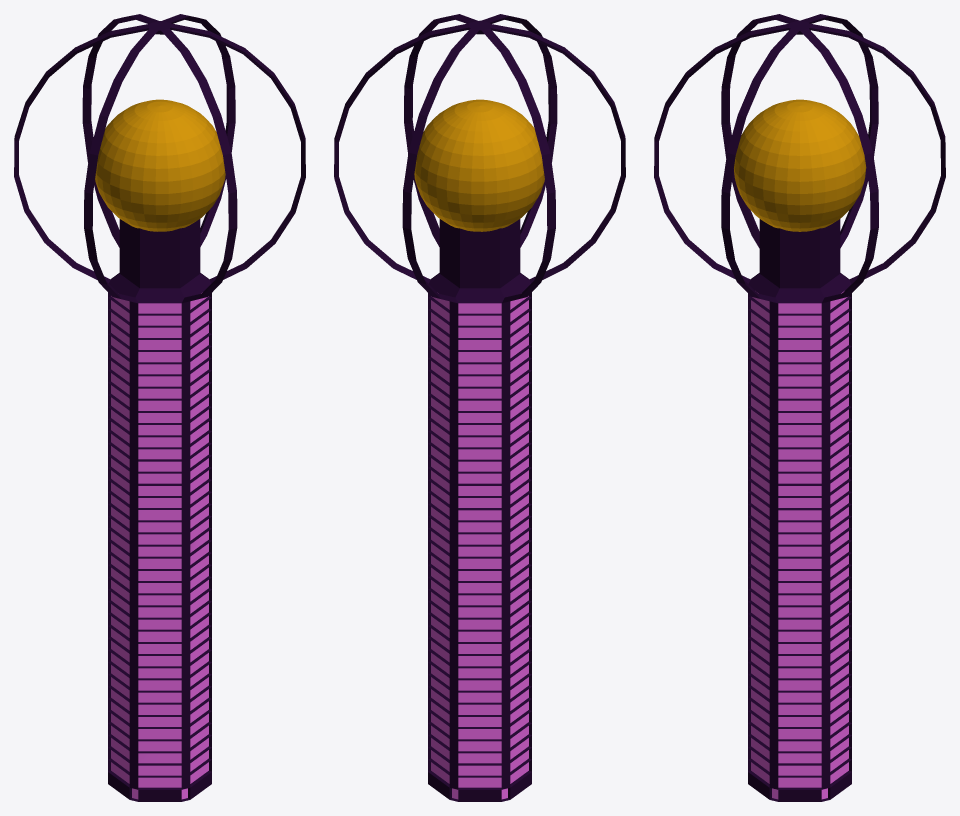
File: Building3Tower.fbx
3 views of the same model, side by side, from view 1: azimuth 30°, elevation 25°; view 2: azimuth 150°, elevation 25°; view 3: azimuth 270°, elevation 25° (orthographic).
Parts seen in each view (by area): view 1: EdificioV3, Build3Glass, Build3Ball; view 2: EdificioV3, Build3Glass, Build3Ball; view 3: EdificioV3, Build3Glass, Build3Ball.
Part boxes in pixels (bbox=[...]): EdificioV3: bbox=[14, 14, 305, 801]; Build3Glass: bbox=[111, 292, 208, 799]; Build3Ball: bbox=[95, 99, 225, 231]; EdificioV3: bbox=[334, 14, 625, 801]; Build3Glass: bbox=[431, 292, 528, 799]; Build3Ball: bbox=[414, 99, 544, 231]; EdificioV3: bbox=[654, 14, 945, 801]; Build3Glass: bbox=[751, 291, 848, 799]; Build3Ball: bbox=[734, 99, 866, 231].
Size of the model in its own units: 3726 by 12134 by 4244.
3 materials, 3 textured.
